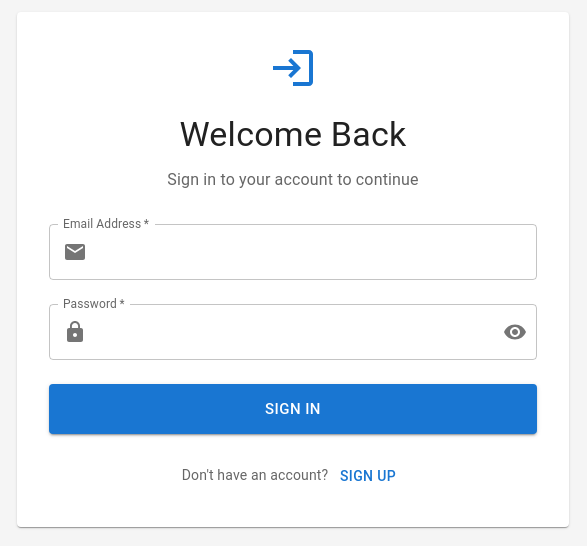
Test: LoginPage Component › shows loading state during login
The width and height of the screenshot is (587, 546).
Type "test@example.com" into the field labelled "Email Address *" at (316, 252), box [95, 224, 537, 280]
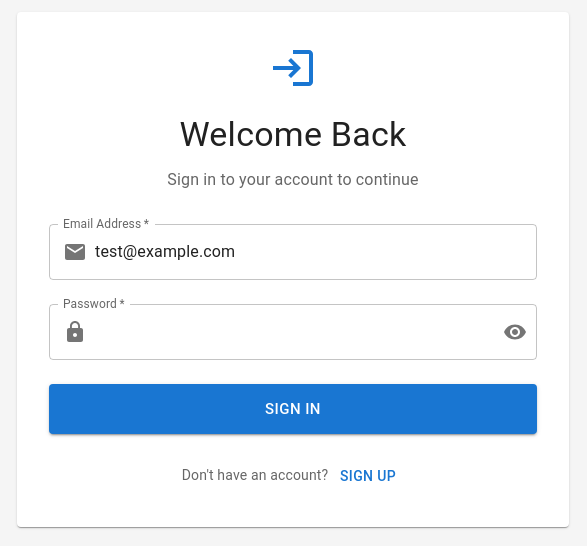
Type "password123" into the password field labelled "Password *" at (291, 332), box [95, 304, 487, 360]
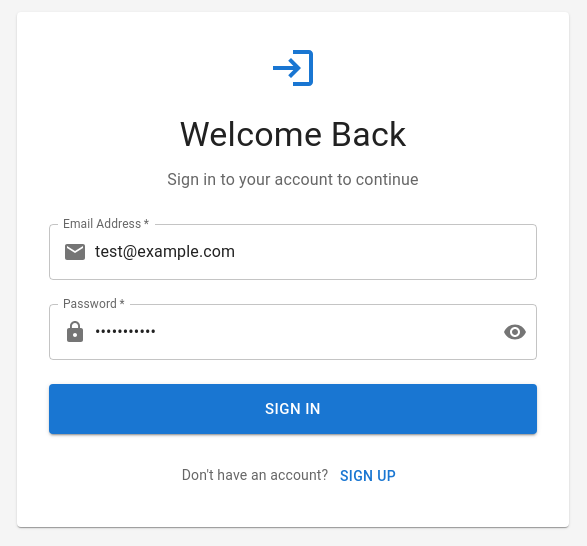
Click the button "Sign In" at (293, 409), box [49, 384, 537, 434]
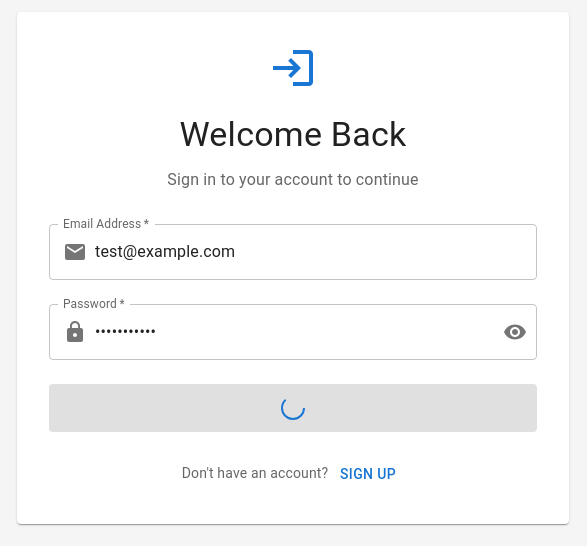
Now the progress indicator is shown, box [281, 396, 305, 420]
Now the 2nd button named "Sign In" is disabled, box [49, 384, 537, 432]
